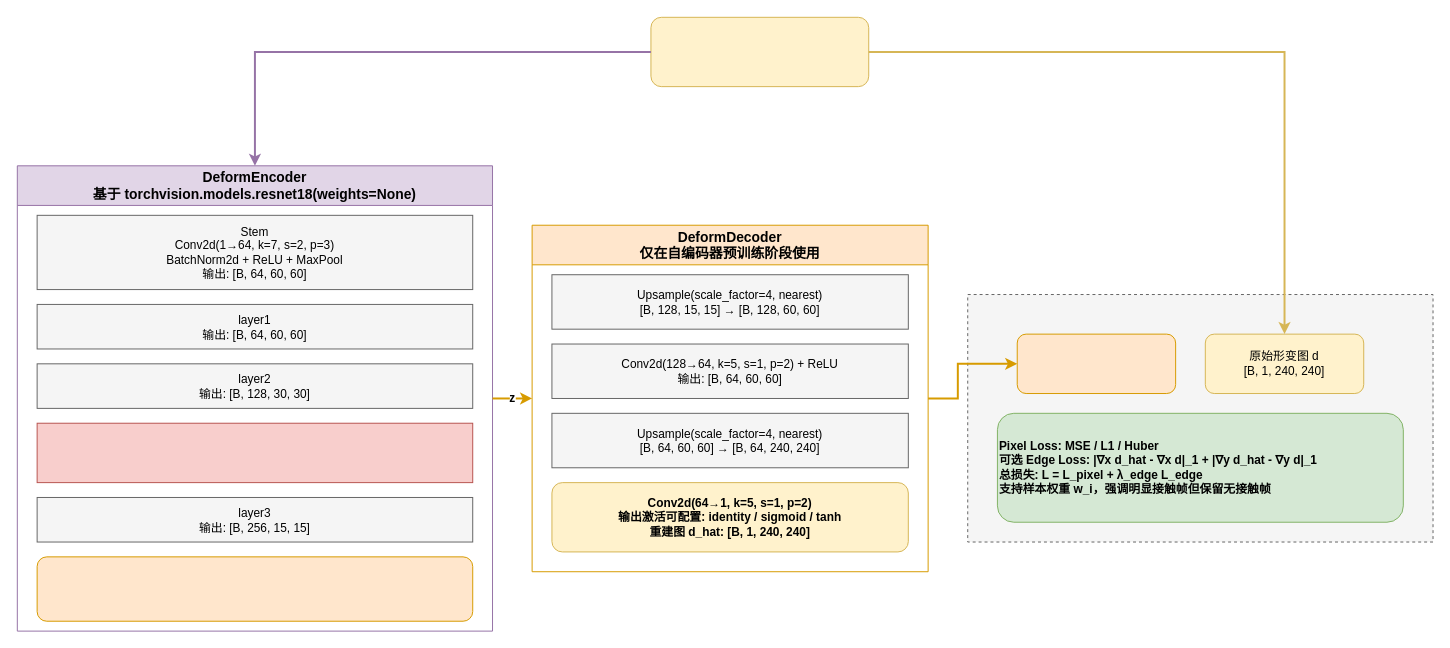
The diagram is 1450 pixels wide and 648 high, and some of its shapes have lost their labels. The centre of each missing label's shape, as x and y in pixels:
"Conv2d(128→128, k=3, s=1, p=1) BatchNorm2d + ReLU 输出: [B, 128, 30, 30]" goes at pixel 254 452.
"Conv2d(256→128, k=3, s=1, p=1) BatchNorm2d + ReLU 最终 z: [B, 128, 15, 15]" goes at pixel 254 588.
"指尖形变图 d [B, 1, 240, 240]" goes at pixel 759 51.
"重建形变图 d_hat [B, 1, 240, 240]" goes at pixel 1096 363.
